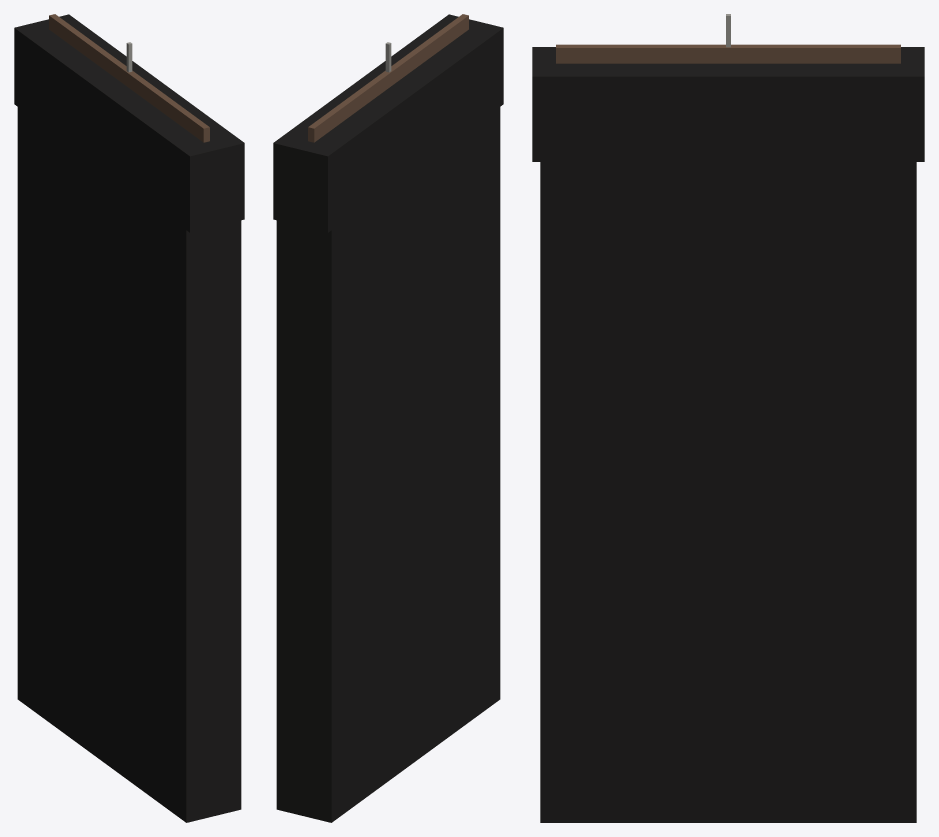
File: long-coat-hung.glb
3 views of the same model, side by side, from view 1: azimuth 30°, elevation 25°; view 2: azimuth 150°, elevation 25°; view 3: azimuth 270°, elevation 25° (orthographic). The views are drawn at different scales.
Parts seen in each view (by area): view 1: rubber, wood; view 2: rubber, wood; view 3: rubber, wood.
Boxes of the visible parts, left/top/right/bottom form: rubber: left=14, top=14, right=244, bottom=822; wood: left=49, top=14, right=209, bottom=142; rubber: left=273, top=14, right=503, bottom=822; wood: left=308, top=14, right=468, bottom=142; rubber: left=532, top=47, right=924, bottom=822; wood: left=556, top=44, right=900, bottom=63.
Size of the model in its own units: 0.09 by 1.12 by 0.5.
